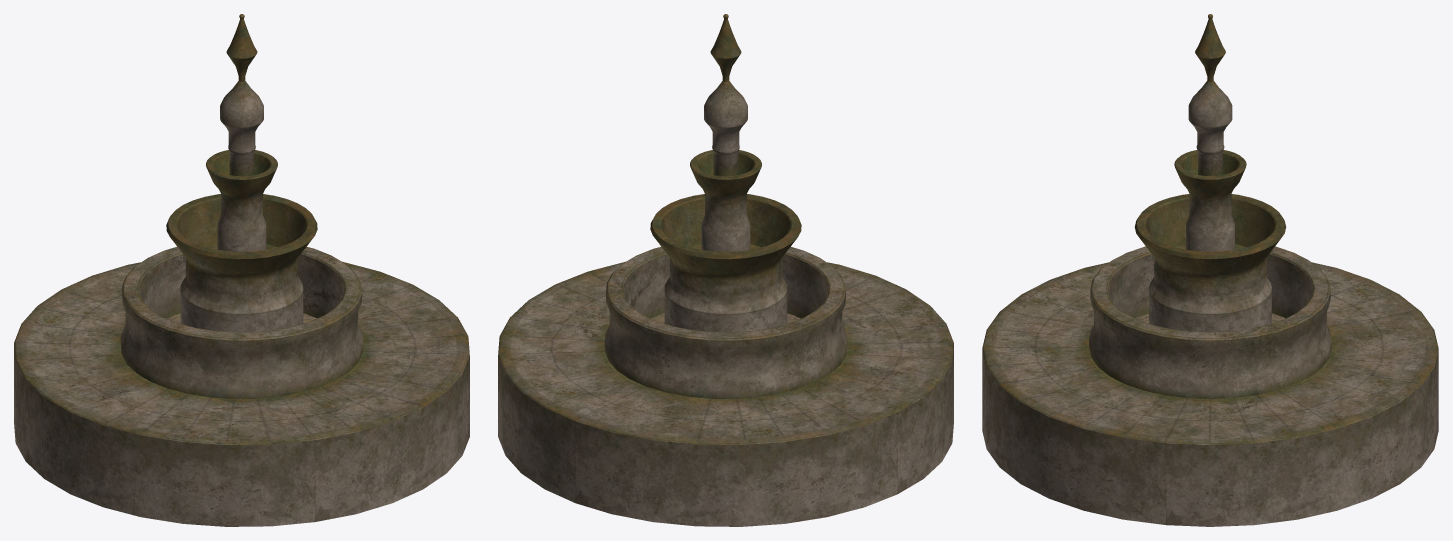
The model's file is fountain_medieval.glb.
The picture shows the model from 3 angles, left to right: view 1: azimuth 30°, elevation 25°; view 2: azimuth 150°, elevation 25°; view 3: azimuth 270°, elevation 25°; orthographic projection.
Parts seen in each view (by area): view 1: Object_2, Object_3, Object_4, Object_5, Object_6, Object_7; view 2: Object_2, Object_3, Object_4, Object_5, Object_6, Object_7; view 3: Object_2, Object_3, Object_4, Object_5, Object_6, Object_7.
Part boxes in pixels (x1=…): Object_2: x1=14, y1=261, x2=469, y2=444; Object_3: x1=14, y1=343, x2=469, y2=526; Object_4: x1=120, y1=246, x2=363, y2=398; Object_5: x1=166, y1=194, x2=317, y2=332; Object_6: x1=206, y1=150, x2=277, y2=251; Object_7: x1=220, y1=14, x2=263, y2=176; Object_2: x1=498, y1=261, x2=953, y2=444; Object_3: x1=498, y1=343, x2=953, y2=526; Object_4: x1=604, y1=246, x2=847, y2=398; Object_5: x1=650, y1=194, x2=801, y2=332; Object_6: x1=690, y1=150, x2=761, y2=251; Object_7: x1=704, y1=14, x2=747, y2=176; Object_2: x1=982, y1=262, x2=1438, y2=444; Object_3: x1=982, y1=350, x2=1438, y2=526; Object_4: x1=1089, y1=246, x2=1331, y2=398; Object_5: x1=1134, y1=194, x2=1286, y2=332; Object_6: x1=1174, y1=150, x2=1246, y2=251; Object_7: x1=1188, y1=14, x2=1232, y2=175.
Size of the model in its own units: 250 by 252 by 250.
Materials: 6 (6 with a texture image).
